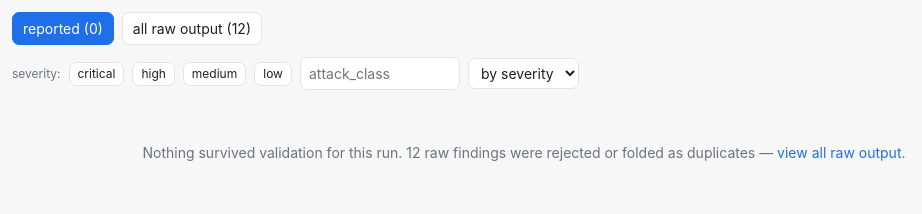
Findings default view (issue #107) › shows every status once the raw view is chosen
The width and height of the screenshot is (922, 214).
Expected: the text "Nothing survived validation" is shown, x1=142 y1=144 x2=402 y2=161
Click the button "all raw output (12)": (192, 28) x1=122 y1=12 x2=262 y2=45
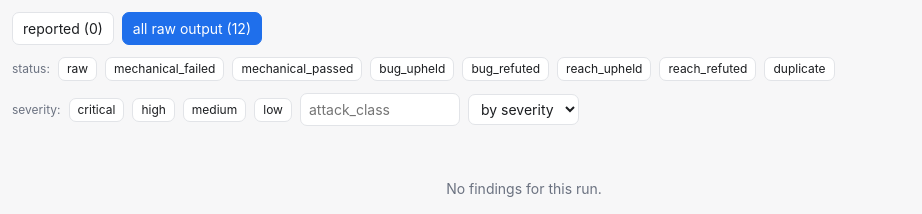
Expected: the button "mechanical_failed" is shown, x1=105 y1=57 x2=224 y2=81
